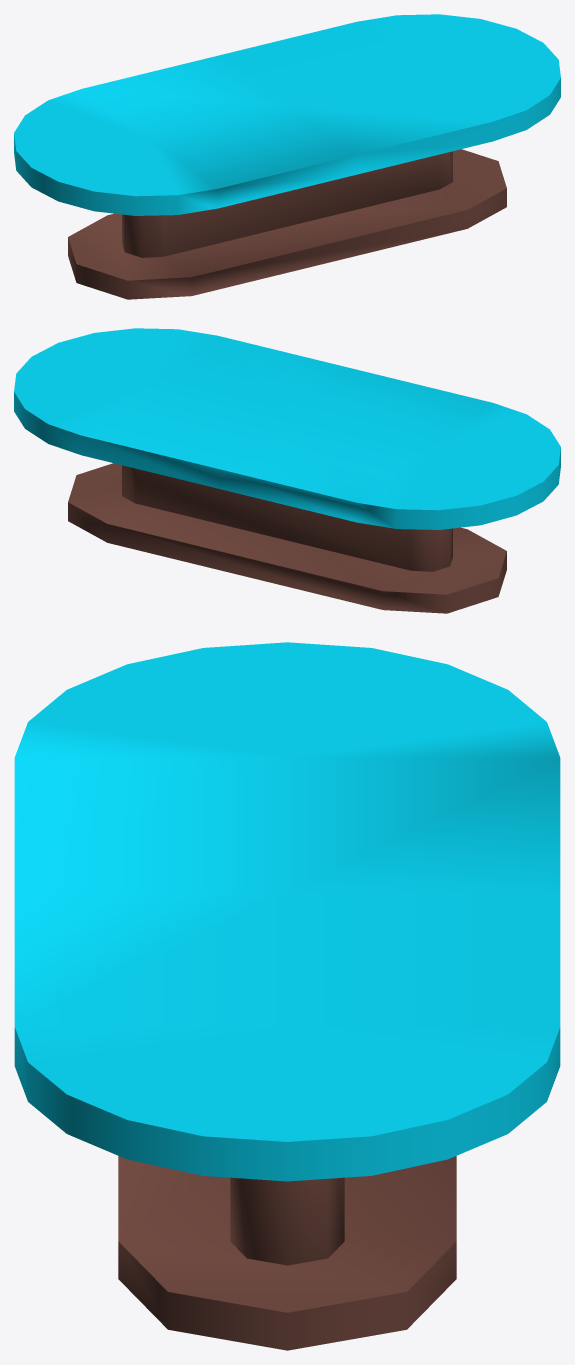
File: TableC1_geo.fbx
3 renders of one model, top to bottom at view 1: azimuth 30°, elevation 25°; view 2: azimuth 150°, elevation 25°; view 3: azimuth 270°, elevation 25°, orthographic. The views are drawn at different scales.
Parts seen in each view (by area): view 1: TableC1_geo; view 2: TableC1_geo; view 3: TableC1_geo.
Boxes of the visible parts, bbox=[...] form: TableC1_geo: bbox=[14, 14, 560, 299]; TableC1_geo: bbox=[14, 328, 560, 613]; TableC1_geo: bbox=[14, 642, 560, 1350].
Size of the model in its own units: 2.89 by 1.33 by 0.681.
